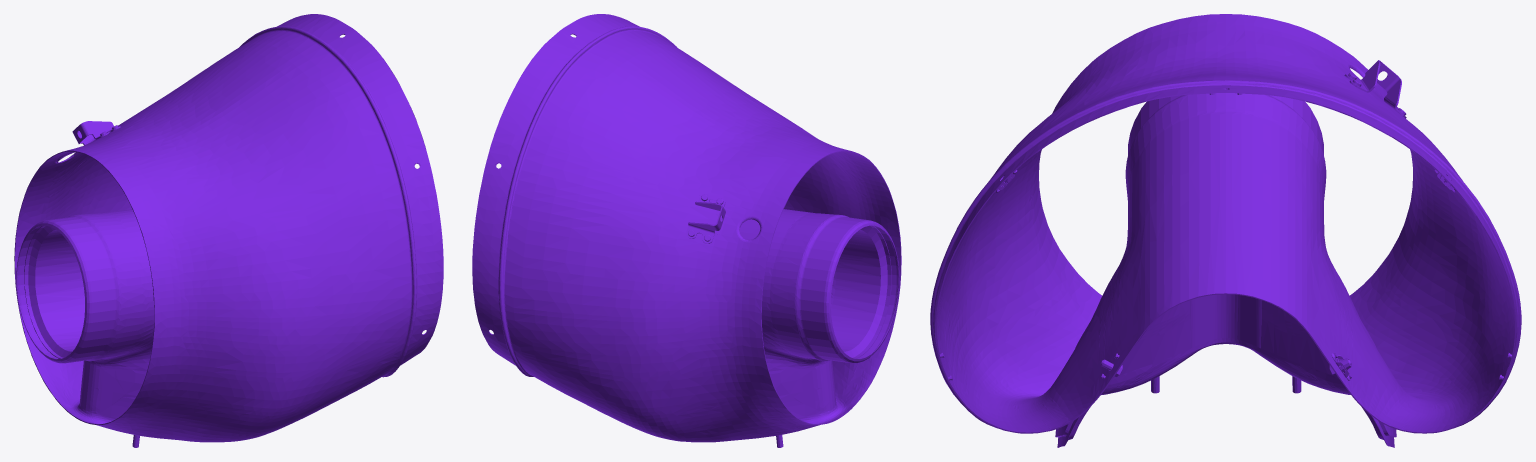
3 views of the same model, side by side, from view 1: azimuth 30°, elevation 25°; view 2: azimuth 150°, elevation 25°; view 3: azimuth 270°, elevation 25° (orthographic). The views are drawn at different scales.
Parts seen in each view (by area): view 1: M04尾喷管; view 2: M04尾喷管; view 3: M04尾喷管.
Boxes of the visible parts, <box> form: M04尾喷管: <box>14,14,443,447</box>; M04尾喷管: <box>472,14,901,447</box>; M04尾喷管: <box>930,14,1521,447</box>.
Size of the model in its own units: 334 by 350 by 406.
